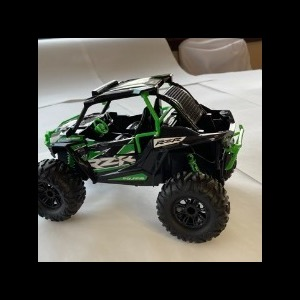polaris: (40, 74, 245, 246)
